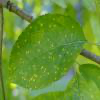Apple rust leaf: (6, 11, 91, 92)
